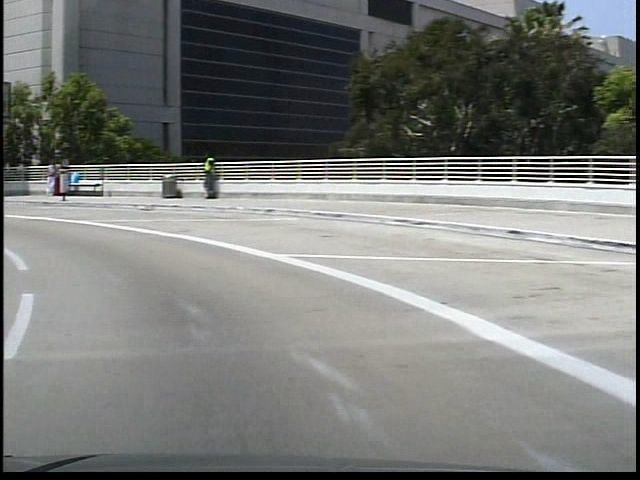person: (194, 149, 215, 204)
